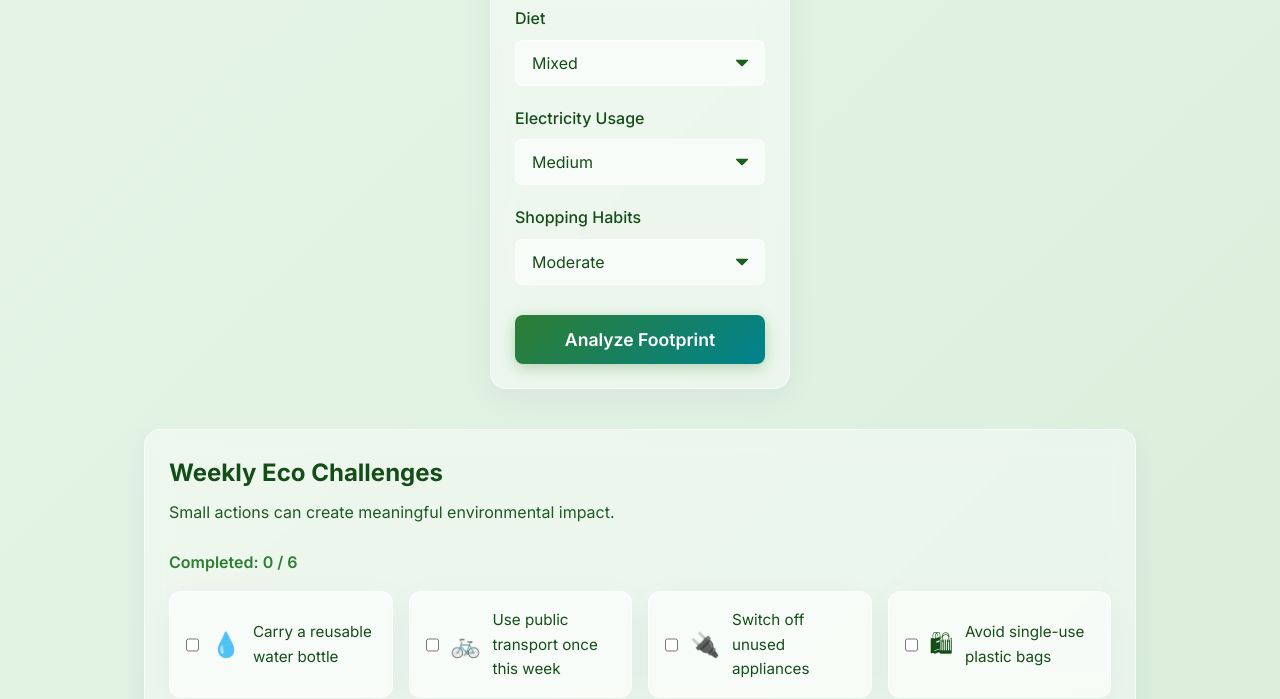
Test: EcoTrack AI Application › renders Sustainability Achievements section asynchronously
This screenshot has width=1280, height=699.
(page scrolled)
Click the button "Analyze Footprint": x=640, y=339 left=515, top=315, right=765, bottom=364
(page scrolled)
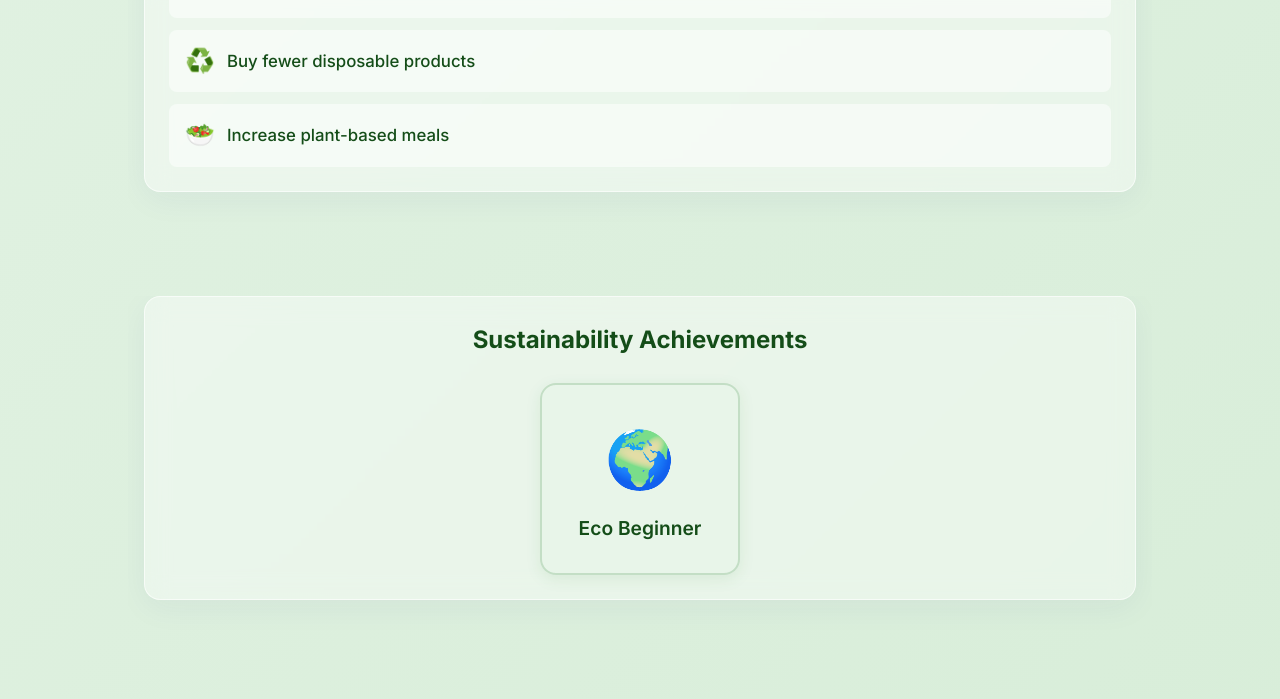
Expected: the heading "Sustainability Achievements" is shown, left=473, top=320, right=807, bottom=359
